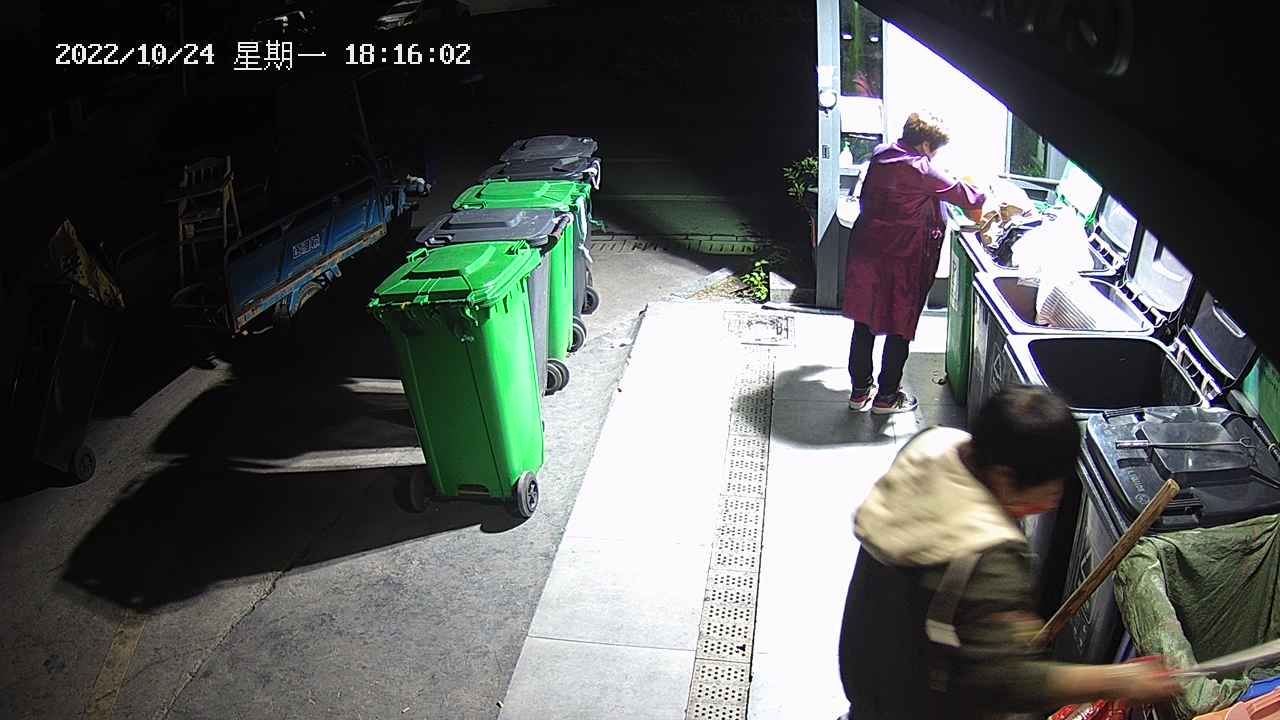person: (835, 382, 1185, 720), (837, 107, 992, 416)
